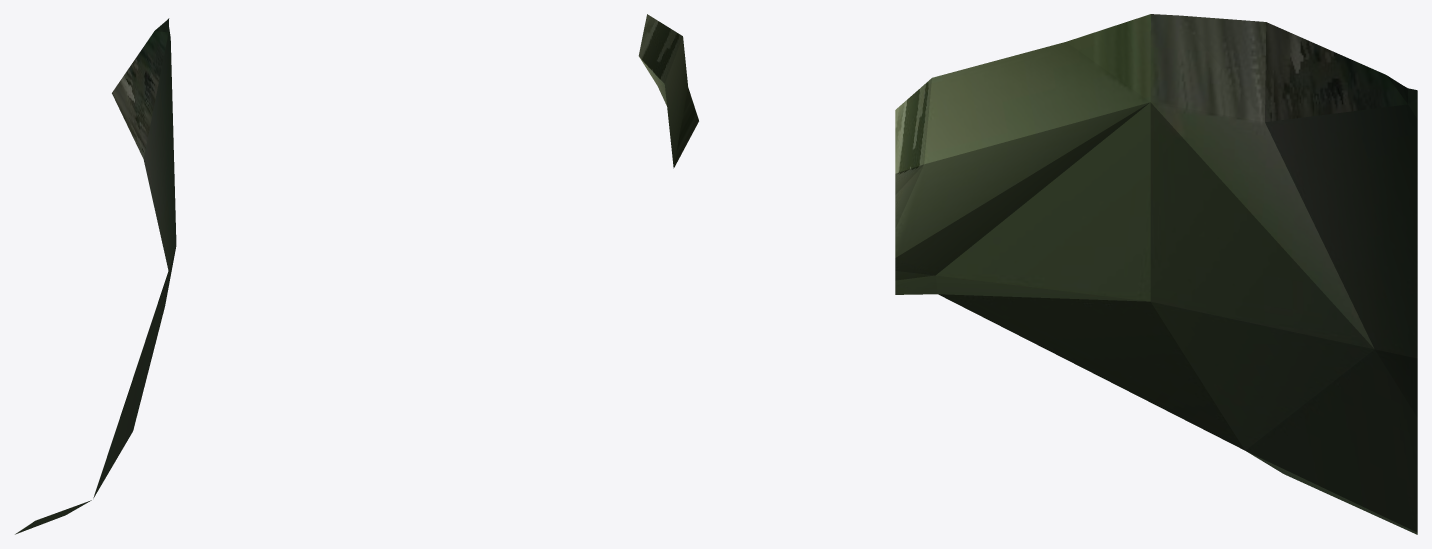
3 renders of one model, left to right at view 1: azimuth 30°, elevation 25°; view 2: azimuth 150°, elevation 25°; view 3: azimuth 270°, elevation 25°, orthographic. The views are drawn at different scales.
Size of the model in its own units: 1.97 by 2.95 by 2.95.
3 materials, 3 textured.
